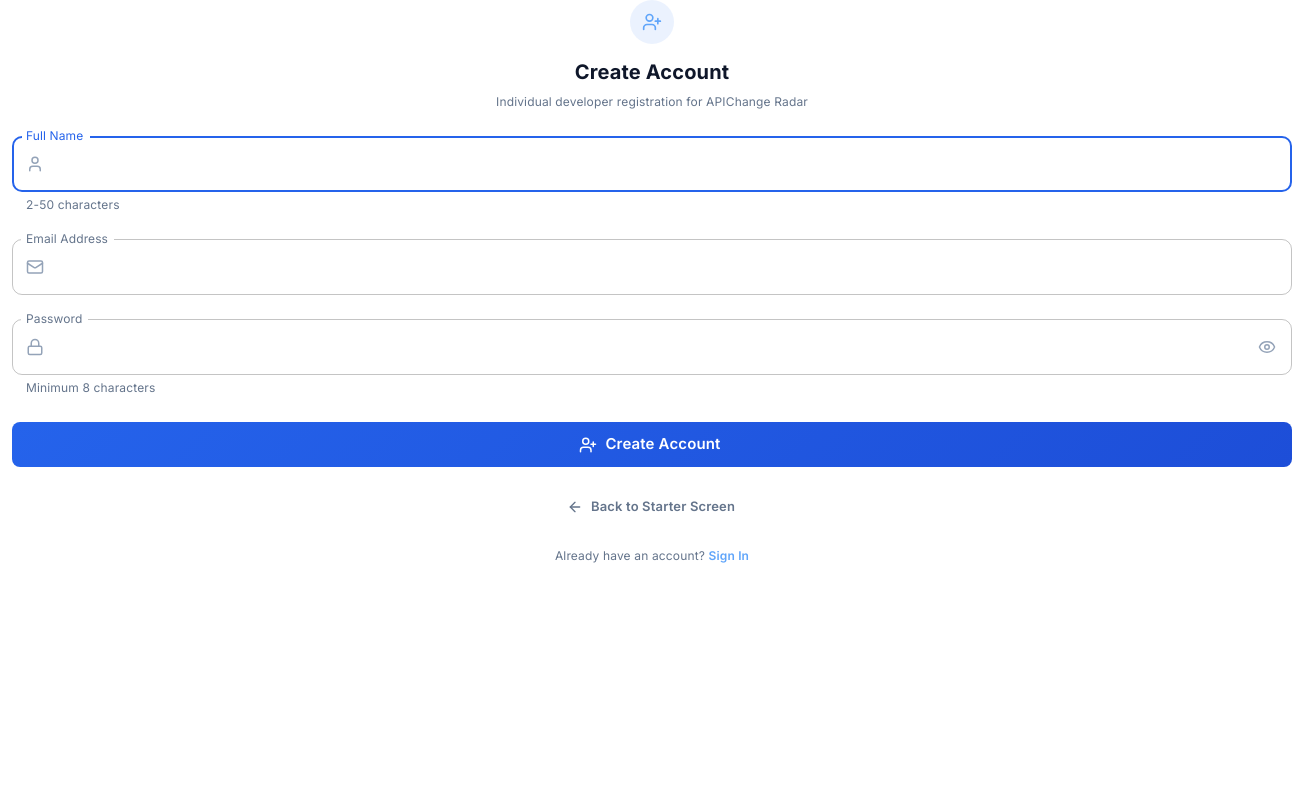
it: RegisterPage › validates minimum password length (8 chars) before submitting
Type "Alice Smith" into the field labelled "Full Name" at coordinates (672, 164), box [52,136,1292,192]
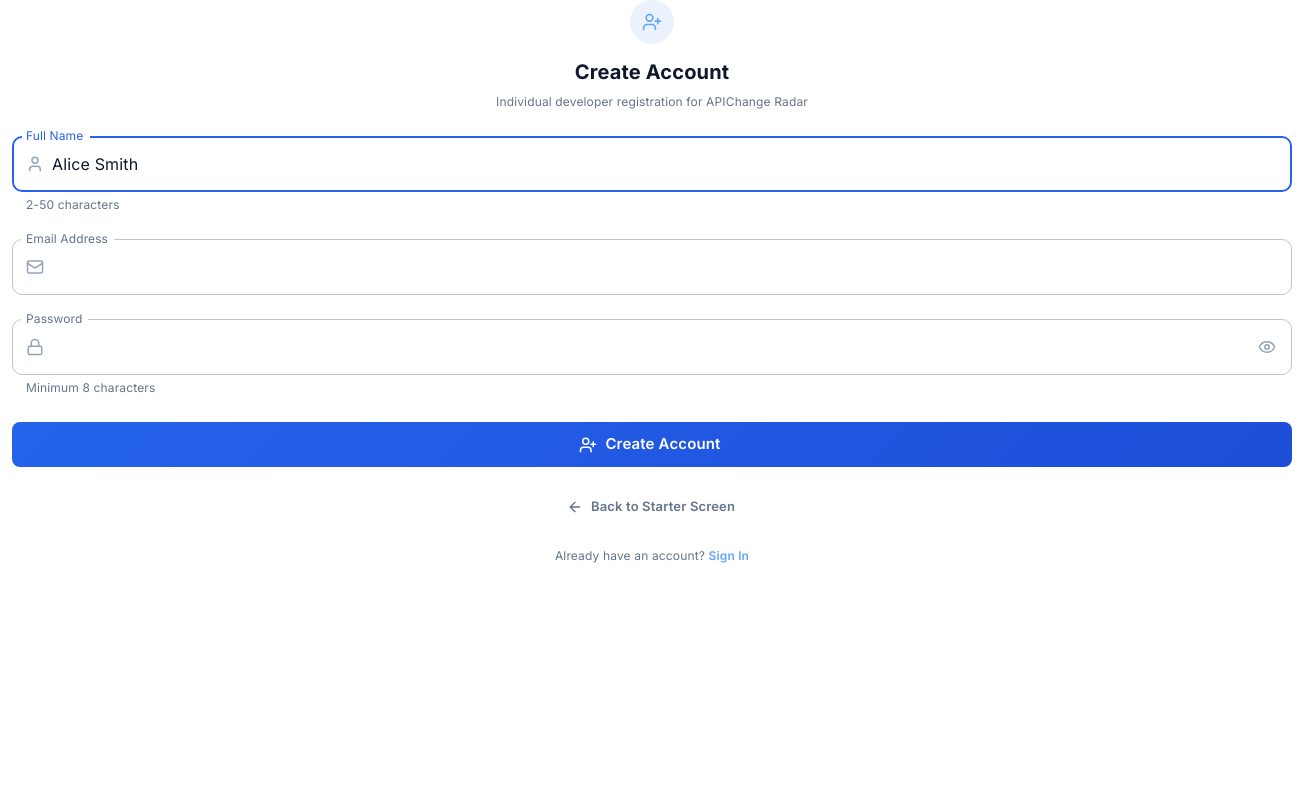
Type "alice@example.com" into the field labelled "Email Address" at coordinates (672, 267), box [52,239,1292,295]
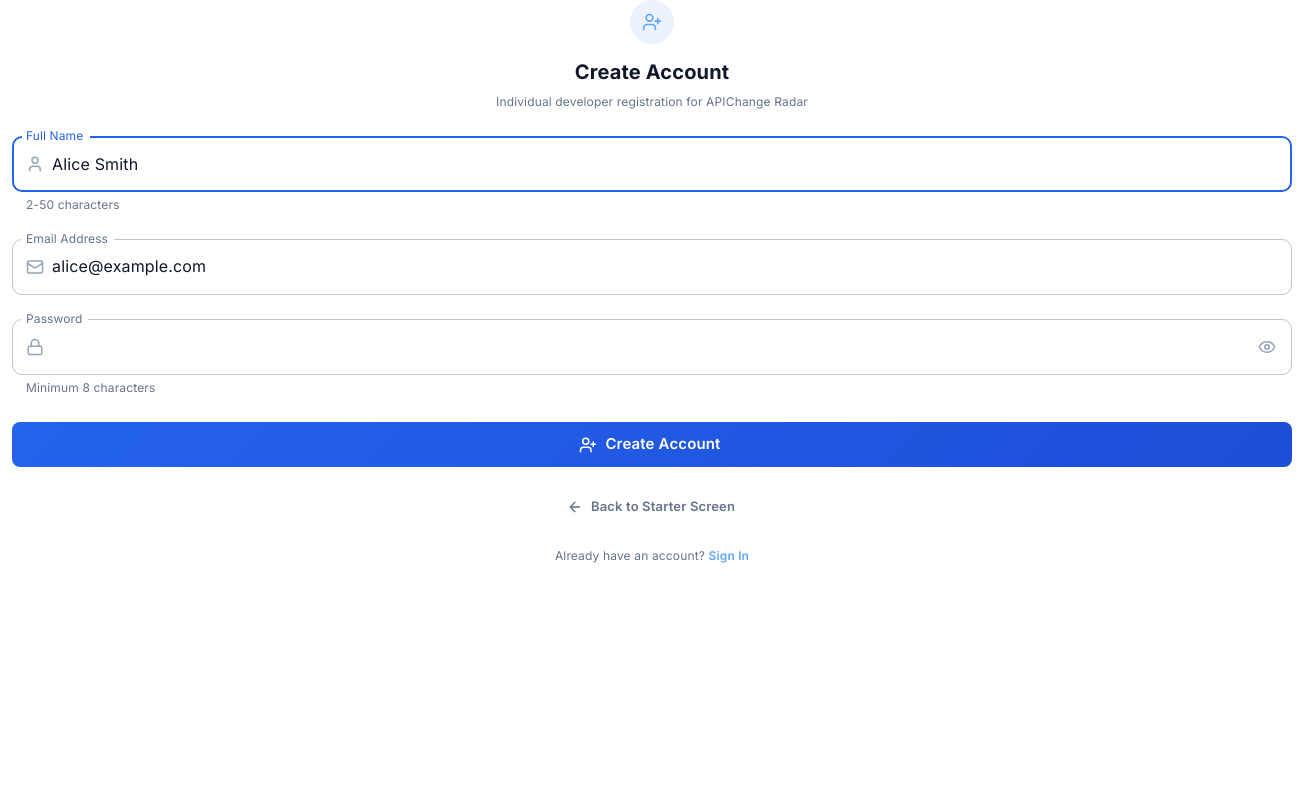
Type "short" into the password field labelled "Password" at coordinates (648, 347), box [52,319,1245,375]
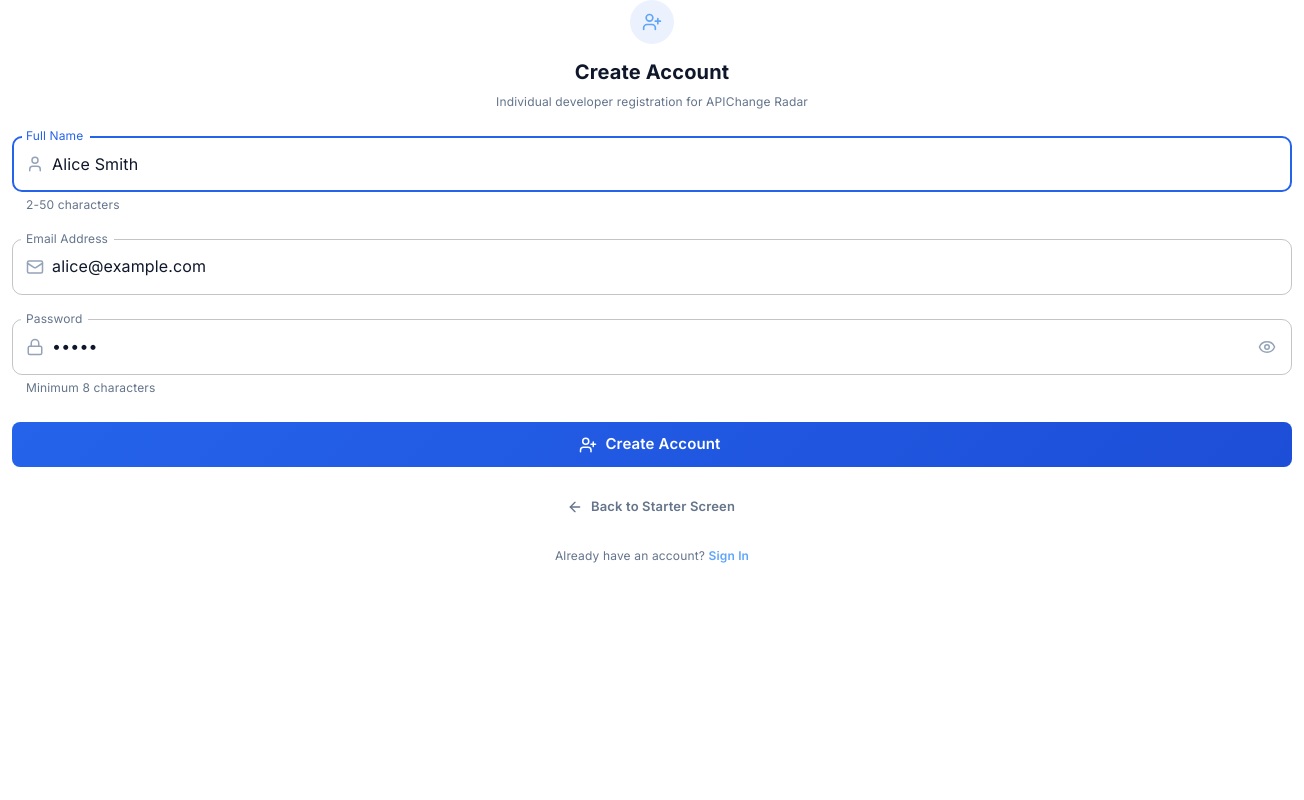
Click the button "Create Account" at coordinates (652, 444), box [12,422,1292,467]
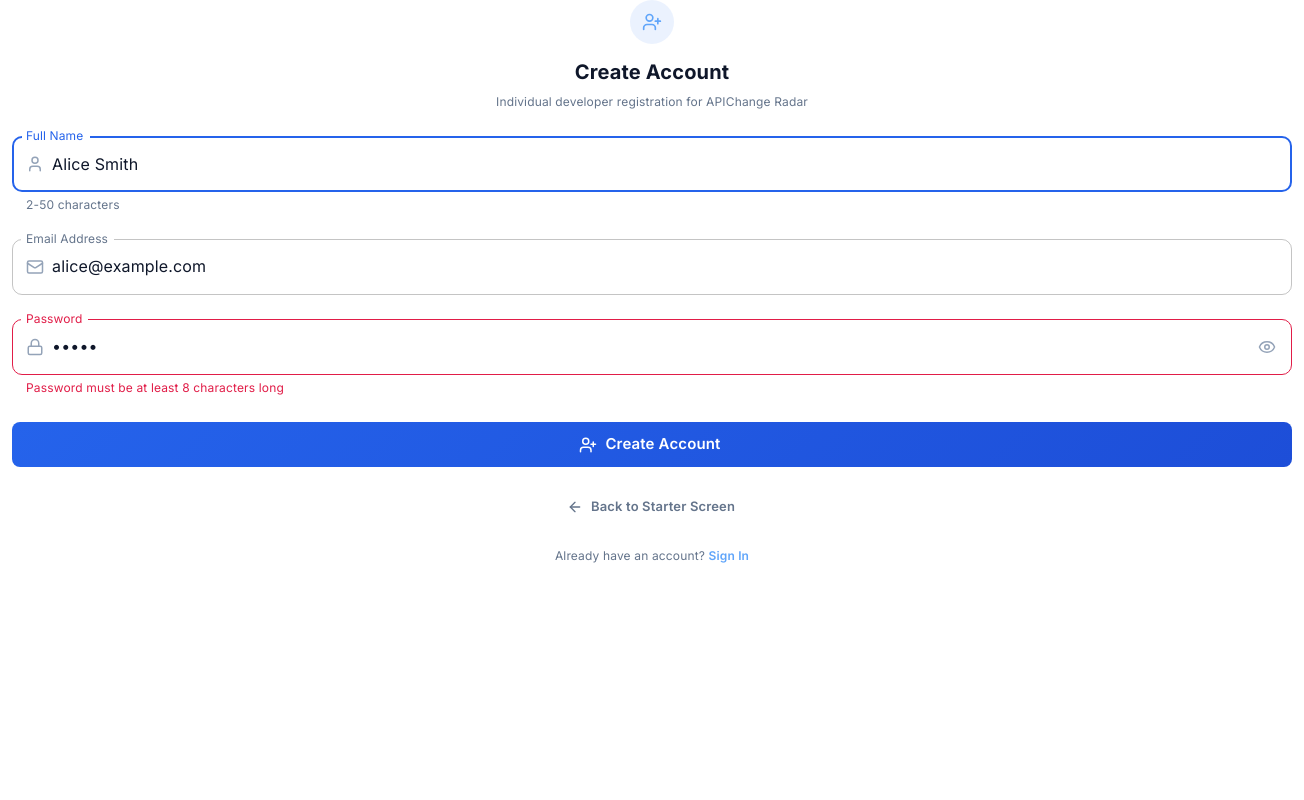
Now the text "Password must be at least 8 characters long" is shown, box [26,380,284,395]
